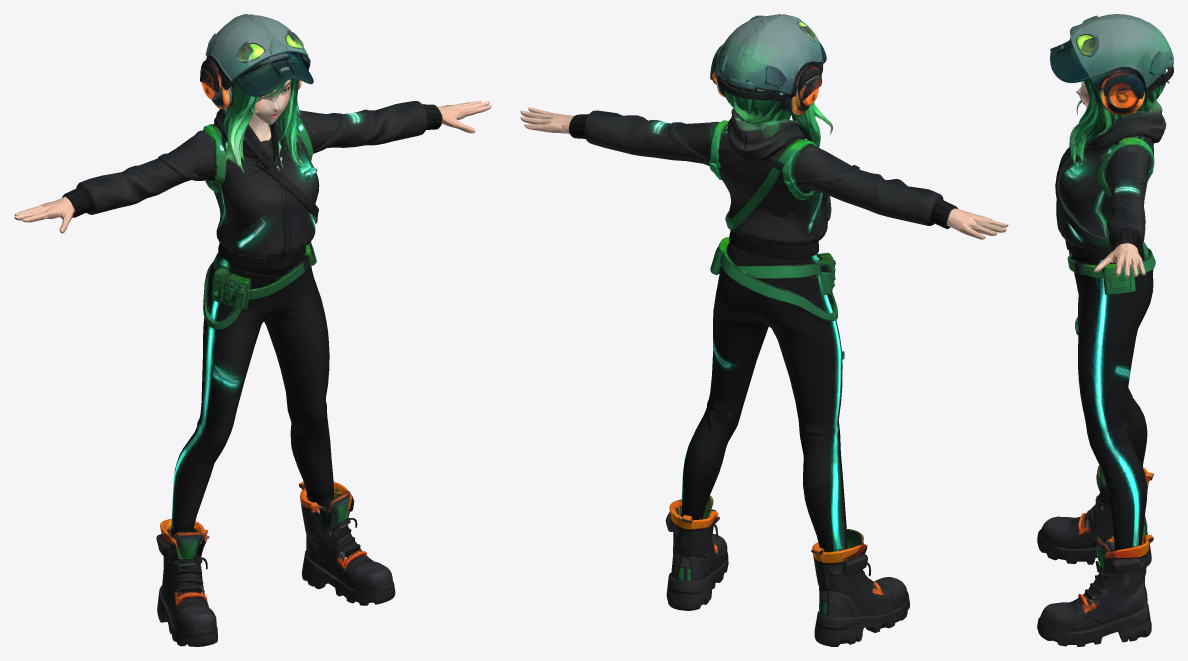
File: turtle-council-mesh.glb
3 renders of one model, left to right at view 1: azimuth 30°, elevation 25°; view 2: azimuth 150°, elevation 25°; view 3: azimuth 270°, elevation 25°, orthographic. The views are drawn at different scales.
Parts seen in each view (by area): view 1: Mesh_0; view 2: Mesh_0; view 3: Mesh_0.
Boxes of the visible parts, x1,y1,x2,y2 form: Mesh_0: (14,14,491,646); Mesh_0: (520,14,1008,646); Mesh_0: (1037,14,1173,646).
Size of the model in its own units: 1.62 by 1.9 by 0.4053.
Materials: 1 (1 with a texture image).
